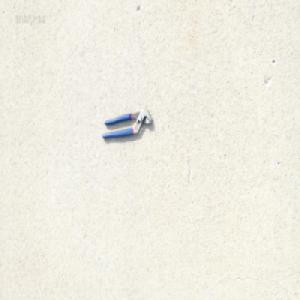Pliers: (102, 107, 153, 140)
